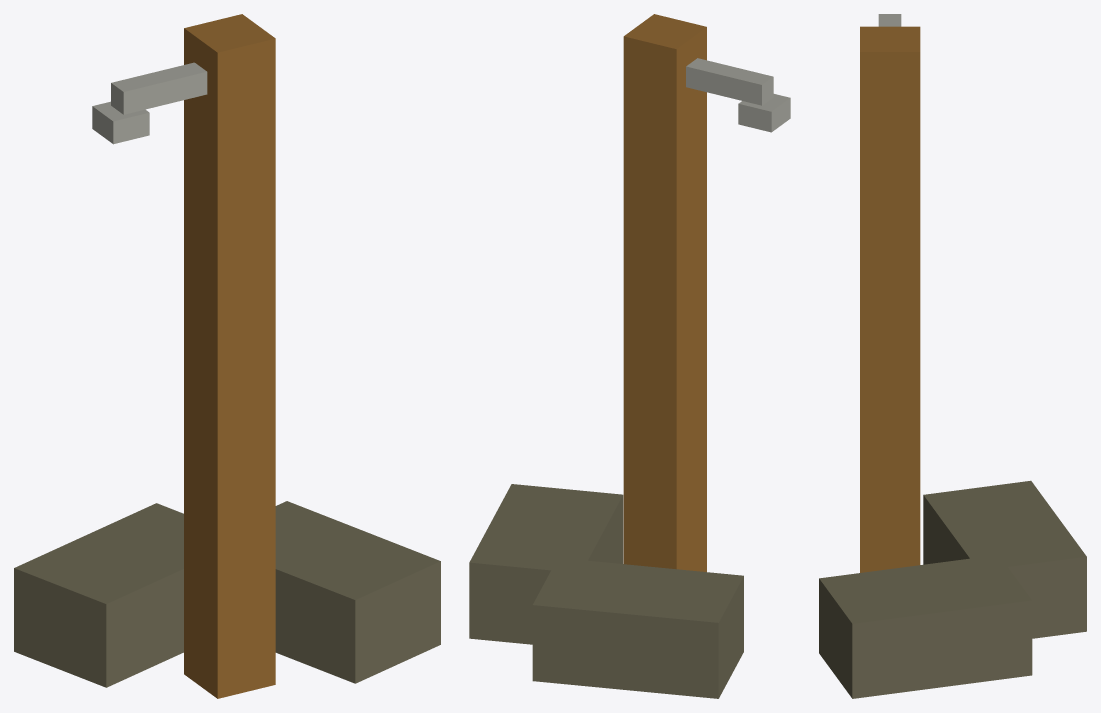
The model's file is SM_PosteFoco_v1_Madera_LOD1.fbx.
The picture shows the model from 3 angles, left to right: view 1: azimuth 30°, elevation 25°; view 2: azimuth 150°, elevation 25°; view 3: azimuth 270°, elevation 25°; orthographic projection. The views are drawn at different scales.
Parts seen in each view (by area): view 1: SM_poste_foco_v1_LOD1; view 2: SM_poste_foco_v1_LOD1; view 3: SM_poste_foco_v1_LOD1.
Part boxes in pixels (x1,y1,x2,y2): SM_poste_foco_v1_LOD1: [14, 14, 440, 698]; SM_poste_foco_v1_LOD1: [469, 14, 790, 698]; SM_poste_foco_v1_LOD1: [819, 14, 1086, 698].
Size of the model in its own units: 0.9007 by 1.7 by 0.7116.
